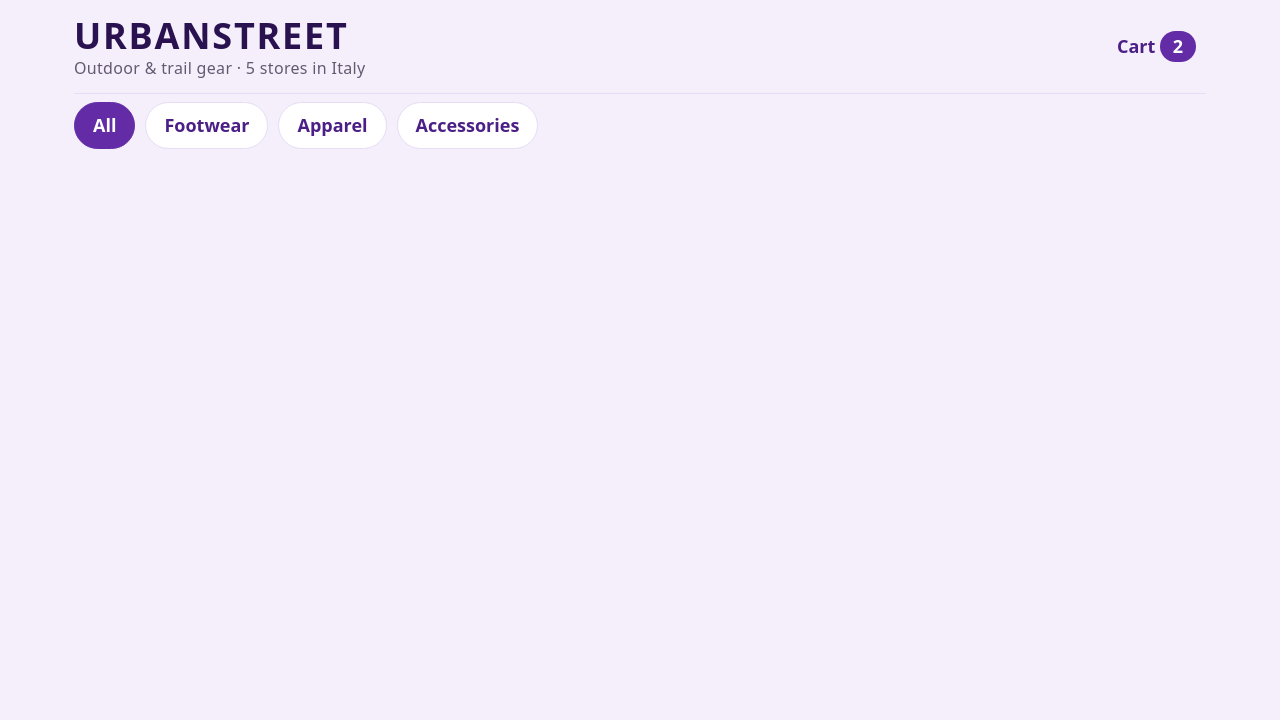
Scenario: Swap persists through the cart API › offer_accepted is recorded only after the server cart took both the ABANDON and the ADD
This screenshot has width=1280, height=720.
Expected: the text with test id "cart-count" reads "2", [1173,34,1183,58]
What coordinates should you click on to do the following:
click the button "Cart 2"
I would click on:
 (1156, 47)
Its box is [1107,25,1206,68].
(page scrolled)
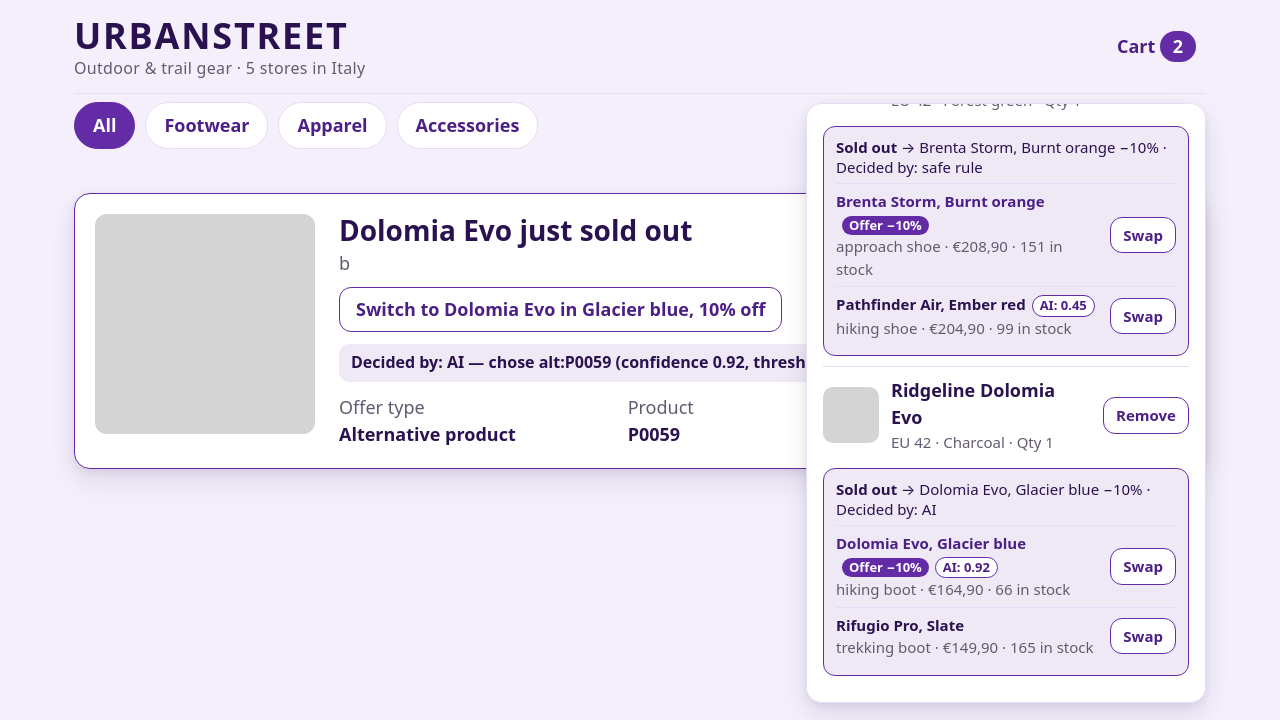
What coordinates should you click on to do the following:
click the button with aria-label "Swap to Dolomia Evo, Glacier blue"
I would click on:
 (1143, 566)
Its box is [1110,548,1176,585].
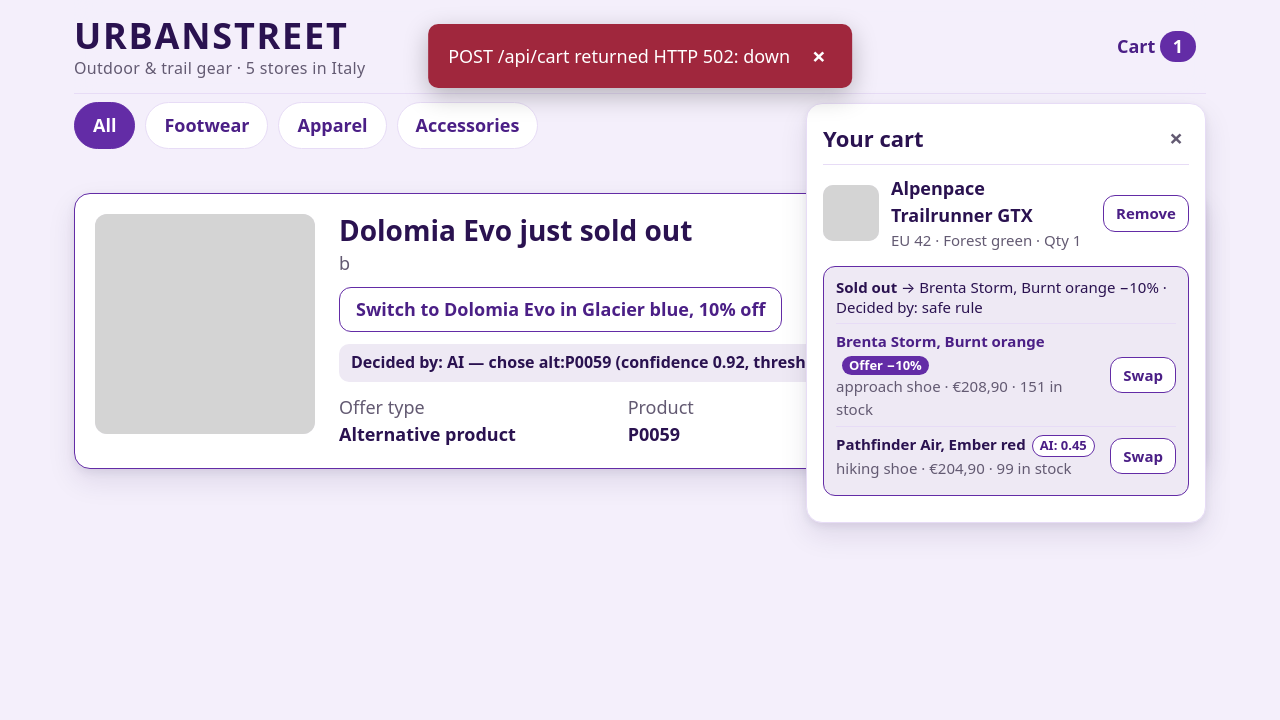
Expected: the text "POST /api/cart returned HTTP 502: down" is shown, [448,42,790,70]
